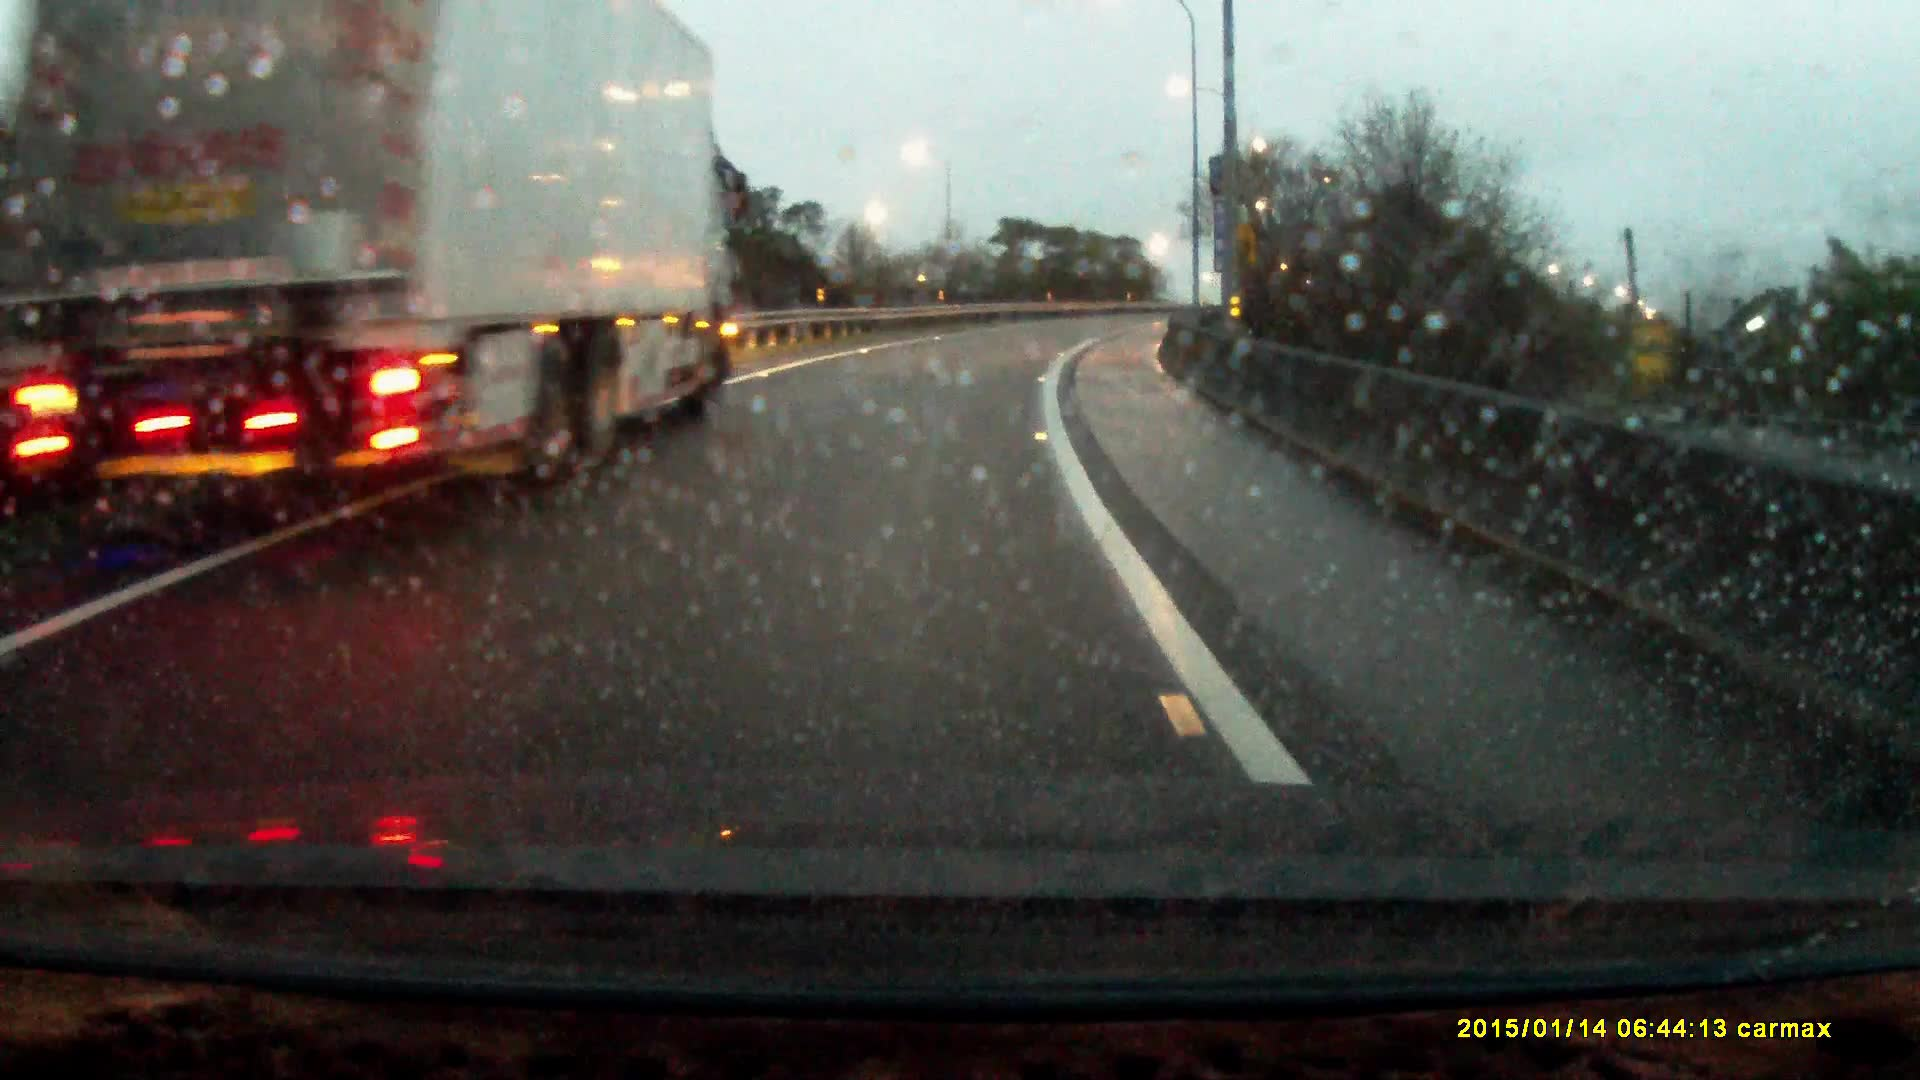vehicle: (36, 1, 746, 533)
